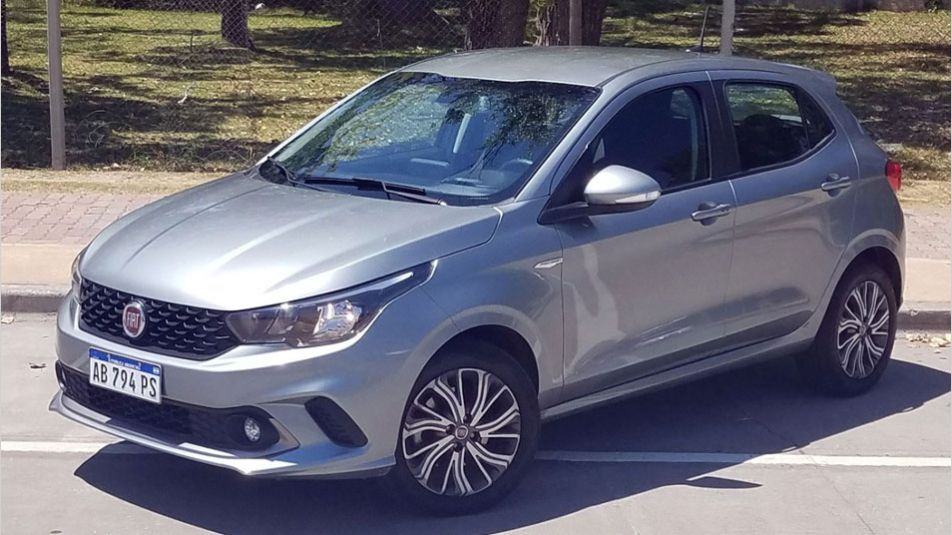car: (46, 44, 906, 512)
